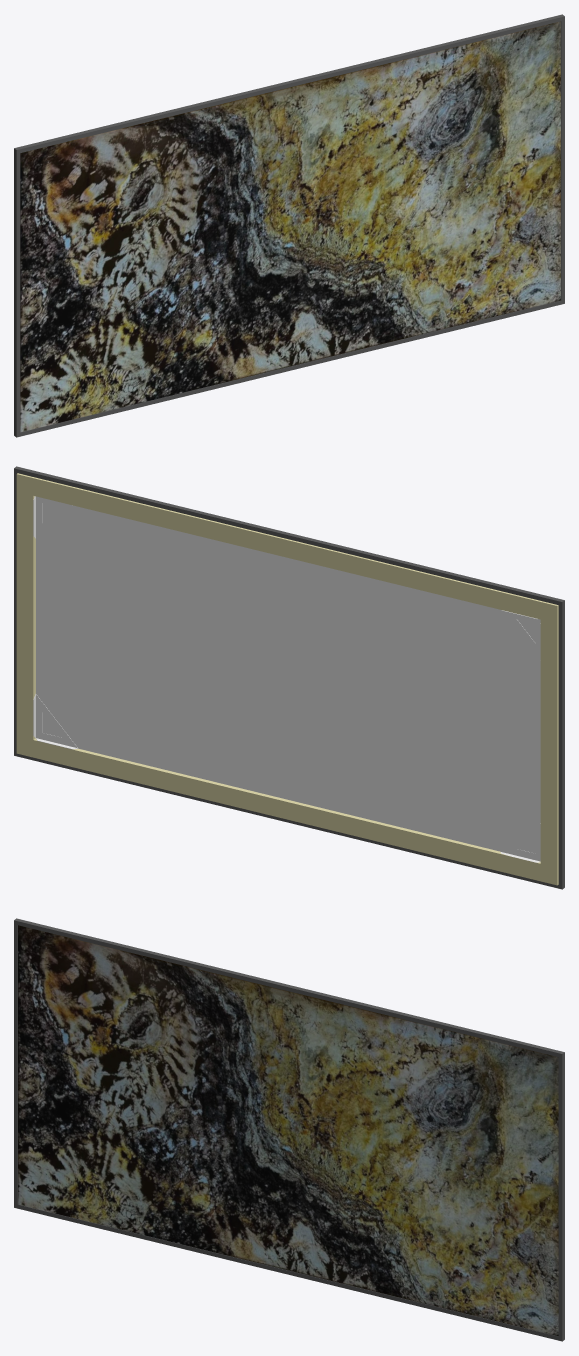
File: Rock_sheet_WILDLIFE.glb
3 renders of one model, top to bottom at view 1: azimuth 30°, elevation 25°; view 2: azimuth 150°, elevation 25°; view 3: azimuth 330°, elevation 25°, orthographic.
Parts seen in each view (by area): view 1: Group15, Group7, Group5, Group8, Group6; view 2: Group13, Group2, Group7, Group8, Group5, Group10, Group6, Group9, Group11, Group12; view 3: Group15, Group7, Group5, Group6, Group8.
Boxes of the visible parts, x1=… form: Group15: x1=20, y1=21, x2=560, y2=432; Group7: x1=14, y1=14, x2=564, y2=152; Group5: x1=17, y1=300, x2=564, y2=437; Group8: x1=14, y1=148, x2=20, y2=437; Group6: x1=561, y1=17, x2=564, y2=303; Group13: x1=36, y1=503, x2=540, y2=853; Group2: x1=16, y1=473, x2=558, y2=885; Group7: x1=14, y1=466, x2=564, y2=604; Group8: x1=558, y1=600, x2=564, y2=889; Group5: x1=14, y1=753, x2=561, y2=889; Group10: x1=33, y1=694, x2=77, y2=749; Group6: x1=14, y1=469, x2=17, y2=755; Group9: x1=33, y1=496, x2=75, y2=538; Group11: x1=500, y1=820, x2=540, y2=862; Group12: x1=501, y1=610, x2=540, y2=660; Group15: x1=18, y1=925, x2=558, y2=1336; Group7: x1=14, y1=918, x2=564, y2=1056; Group5: x1=14, y1=1204, x2=561, y2=1341; Group6: x1=558, y1=1052, x2=564, y2=1341; Group8: x1=14, y1=921, x2=17, y2=1207.
Size of the model in its own units: 2444 by 1224 by 29.
Materials: 11 (1 with a texture image).
